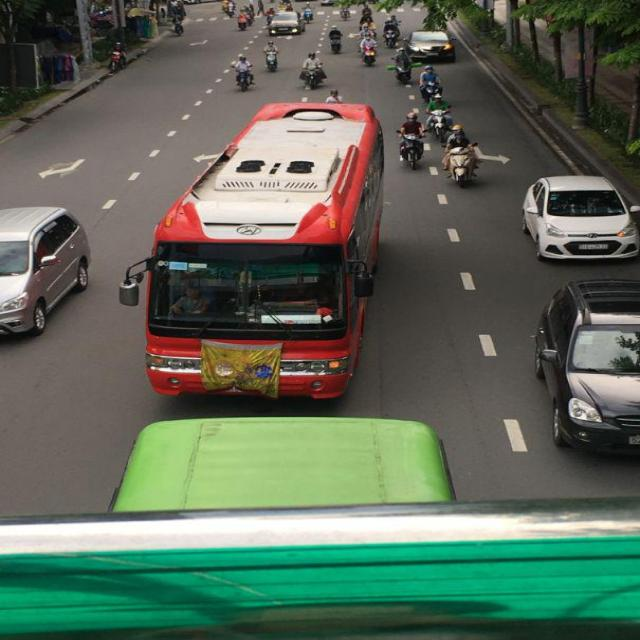bus: (138, 98, 394, 400)
car: (533, 278, 639, 461), (0, 206, 93, 342), (520, 176, 635, 264), (408, 31, 457, 64), (268, 10, 304, 36)
motorcycle: (446, 146, 482, 187), (397, 132, 426, 170), (300, 66, 326, 89), (360, 36, 378, 66), (236, 71, 254, 93), (384, 24, 399, 46), (330, 30, 342, 54)
